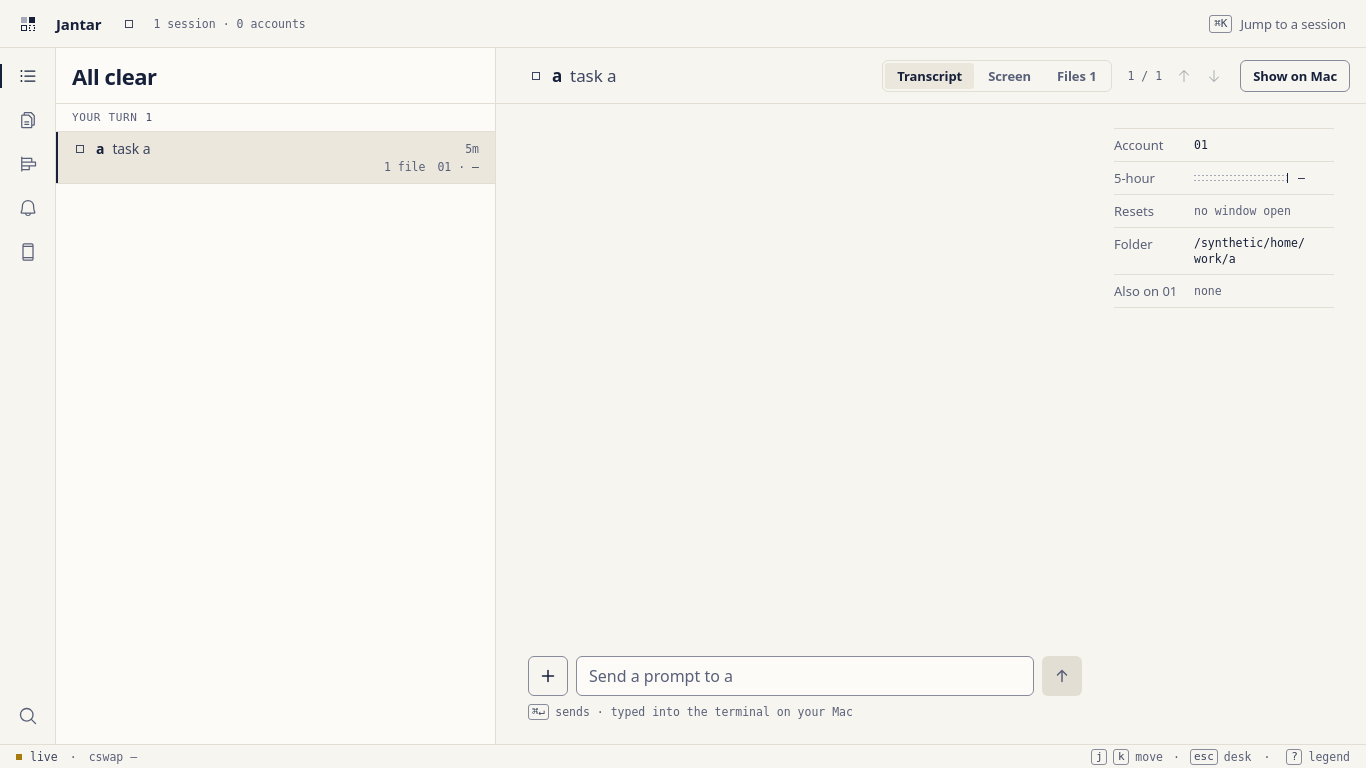
the viewer › reads the open file again when Claude writes it, not when the list first arrives
The image size is (1366, 768).
Click the tab "Files 1": coordinates (1077, 76) top-left (1045, 62), bottom-right (1108, 88)
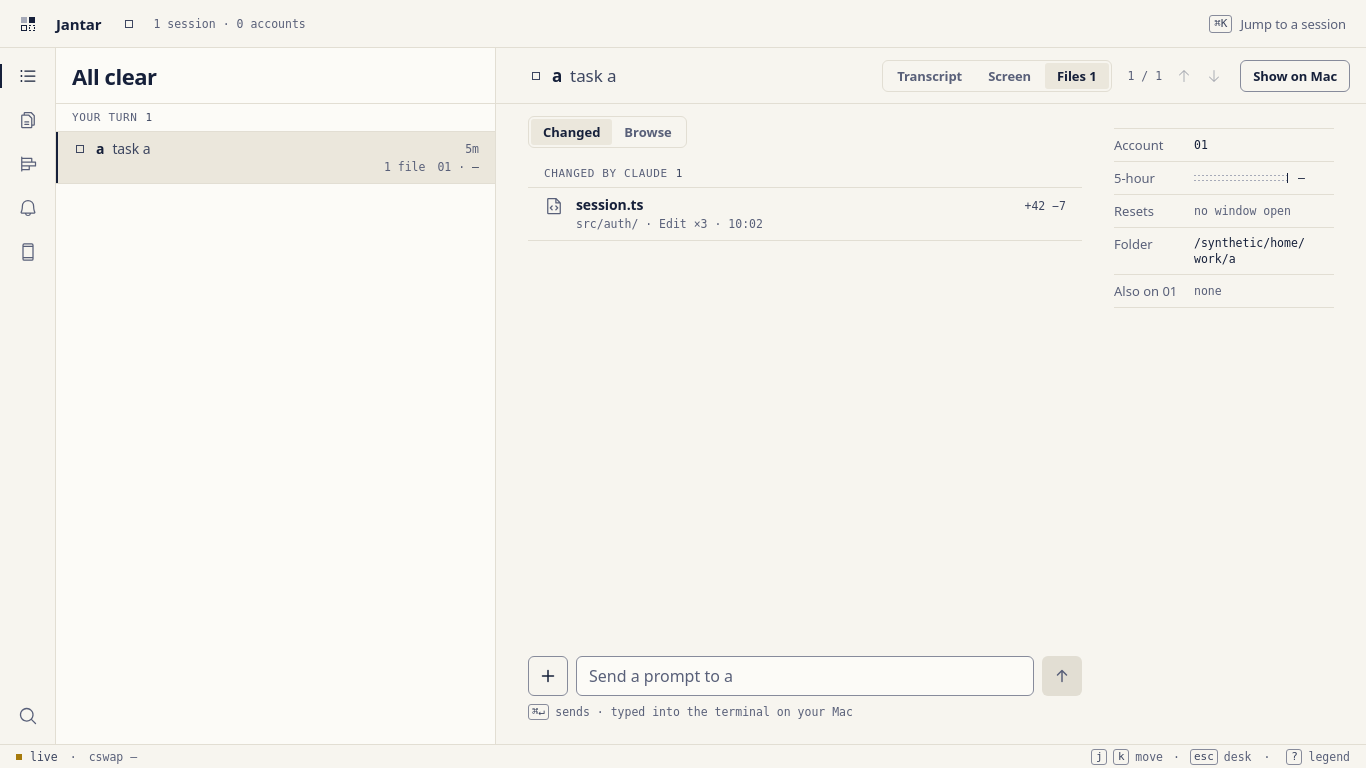
Click the button "session.ts +42 −7 src/auth/ · Edit ×3 · 10:02": coordinates (610, 204) top-left (528, 188), bottom-right (1082, 240)
Wait 450 ms
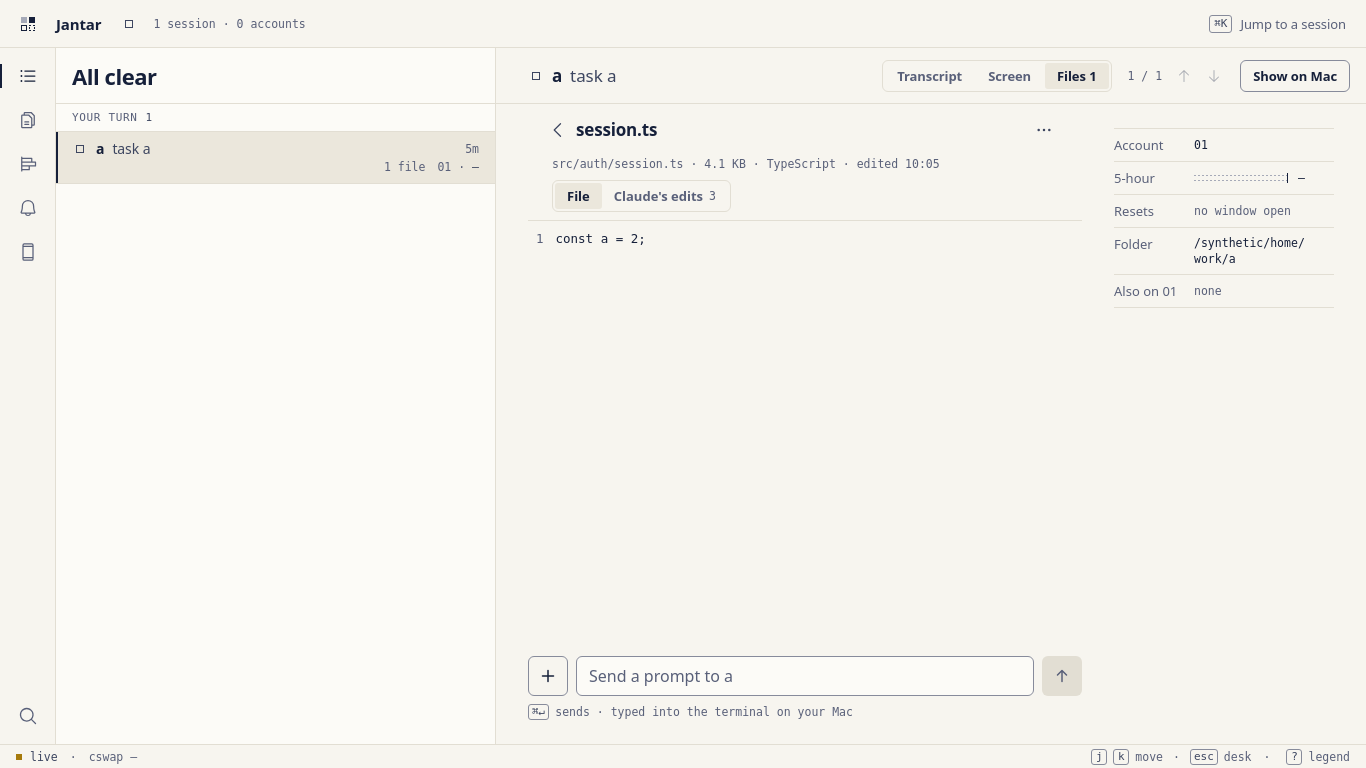
Expected: the text "const a = 2;" is shown, top-left (556, 231), bottom-right (646, 246)
